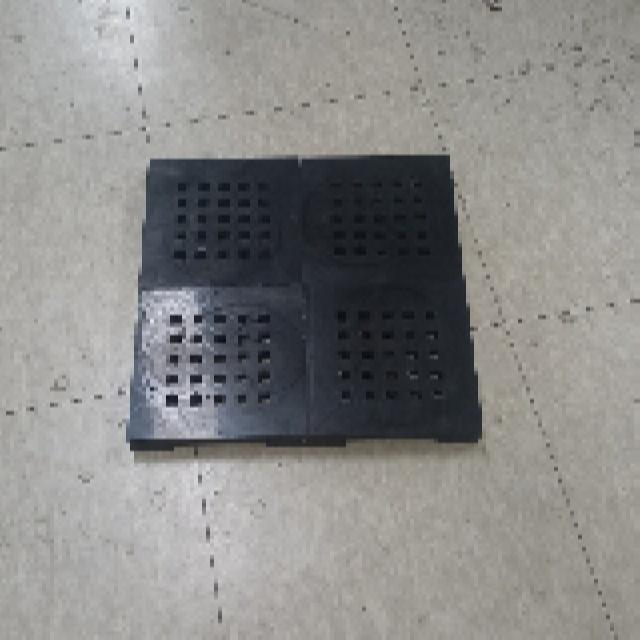pallet: (124, 150, 492, 454)
